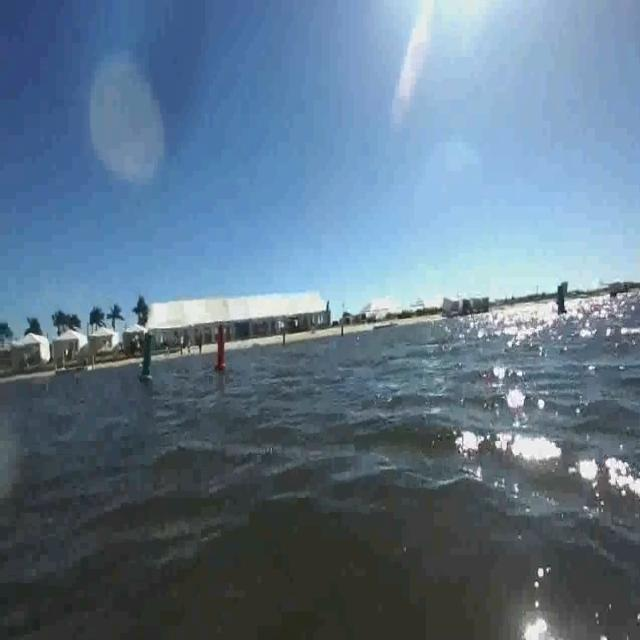green-column-buoy: (139, 333, 155, 382)
red-column-buoy: (214, 326, 228, 372)
